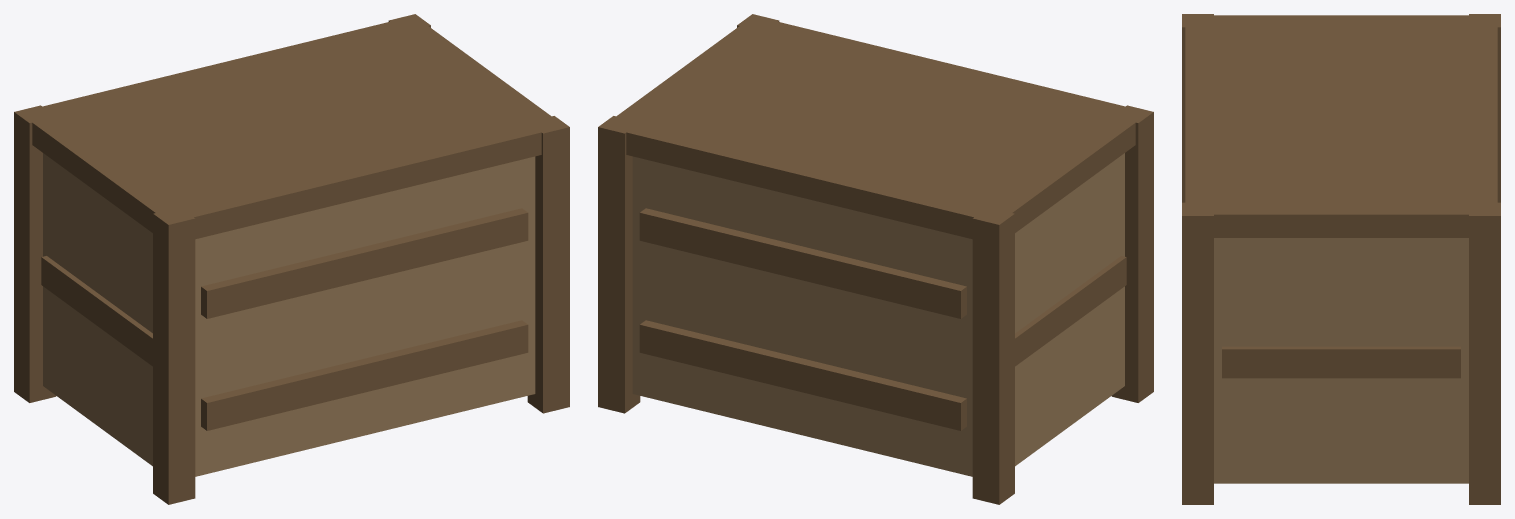
Rendered from crate.glb.
3 views of the same model, side by side, from view 1: azimuth 30°, elevation 25°; view 2: azimuth 150°, elevation 25°; view 3: azimuth 270°, elevation 25° (orthographic). The views are drawn at different scales.
Parts seen in each view (by area): view 1: crate; view 2: crate; view 3: crate.
Part boxes in pixels (x1,y1,x2,y2): crate: [14, 14, 569, 504]; crate: [598, 14, 1153, 504]; crate: [1182, 14, 1500, 504].
Bounding box in the file's own units: 0.6 × 0.4 × 0.4.
